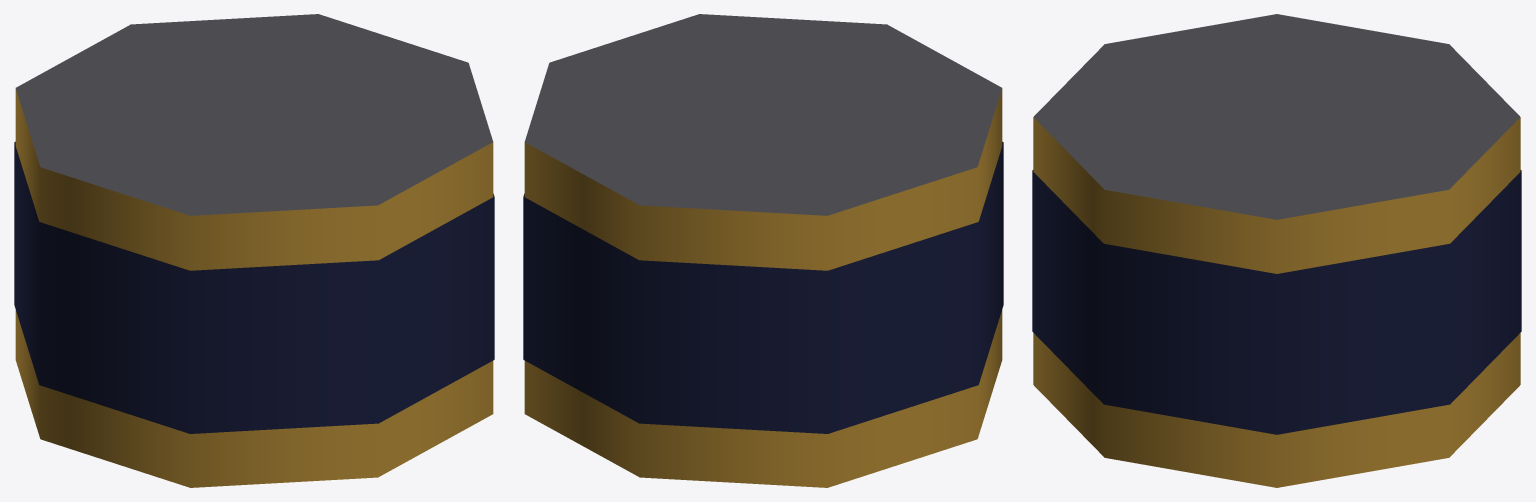
Rendered from gen-poly.obj.
The picture shows the model from 3 angles, left to right: view 1: azimuth 30°, elevation 25°; view 2: azimuth 150°, elevation 25°; view 3: azimuth 270°, elevation 25°; orthographic projection.
Parts seen in each view (by area): view 1: gen-poly; view 2: gen-poly; view 3: gen-poly.
Part boxes in pixels (x1,y1,x2,y2): gen-poly: (14,14,494,487); gen-poly: (523,14,1003,487); gen-poly: (1032,14,1521,487).
Bounding box in the file's own units: 1.41 × 0.85 × 1.41.
